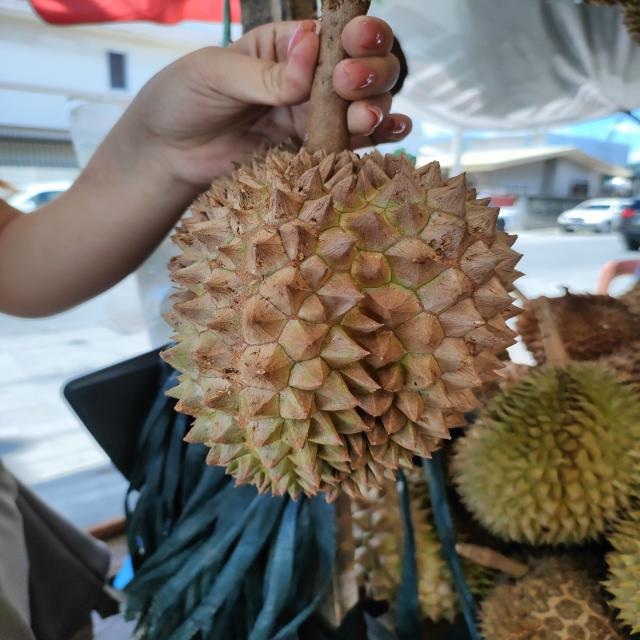mature: (157, 155, 526, 497)
